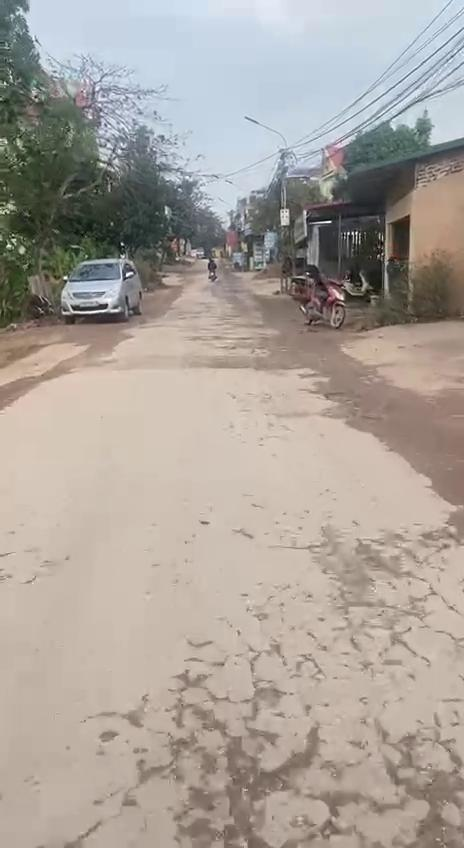pothole: (158, 721, 326, 848), (314, 530, 445, 663), (382, 730, 464, 848)
